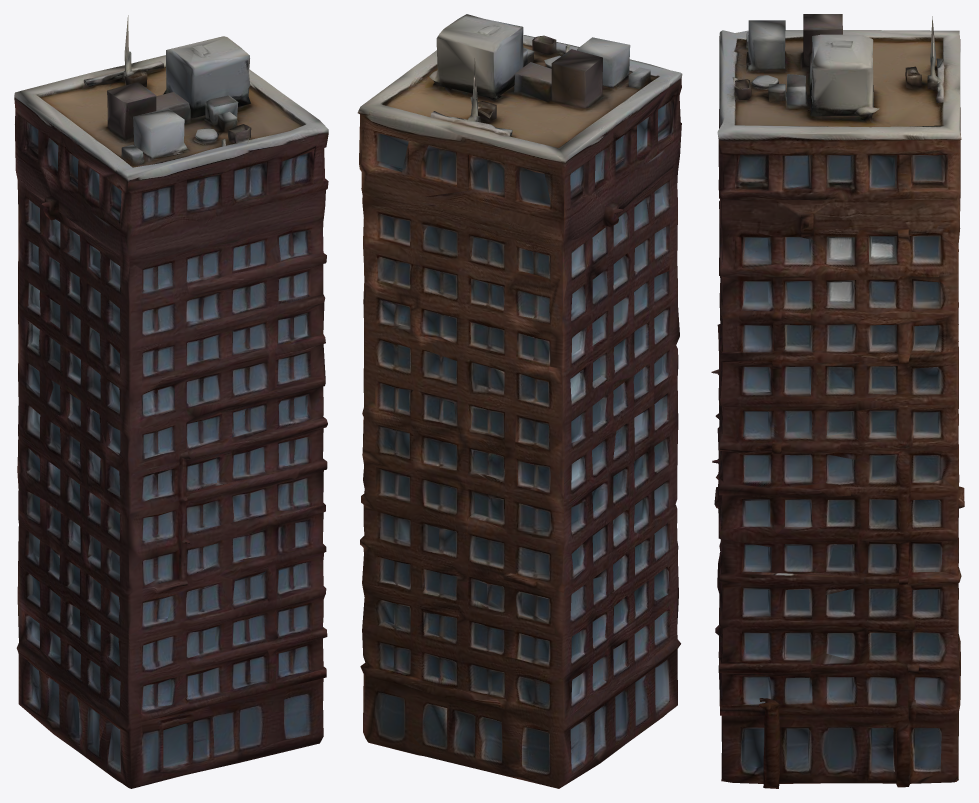
The model's file is bld5_hi.glb.
3 views of the same model, side by side, from view 1: azimuth 30°, elevation 25°; view 2: azimuth 150°, elevation 25°; view 3: azimuth 270°, elevation 25° (orthographic). The views are drawn at different scales.
Visible parts, largest first — view 1: tripo_node_bc4e6107-4559-41dd-a509-31184fe4bcd3; view 2: tripo_node_bc4e6107-4559-41dd-a509-31184fe4bcd3; view 3: tripo_node_bc4e6107-4559-41dd-a509-31184fe4bcd3.
Part boxes in pixels (bbox=[...]): tripo_node_bc4e6107-4559-41dd-a509-31184fe4bcd3: bbox=[14, 15, 328, 788]; tripo_node_bc4e6107-4559-41dd-a509-31184fe4bcd3: bbox=[357, 14, 682, 788]; tripo_node_bc4e6107-4559-41dd-a509-31184fe4bcd3: bbox=[711, 14, 964, 788].
Size of the model in its own units: 0.3564 by 0.9998 by 0.3191.
1 material, 1 textured.
